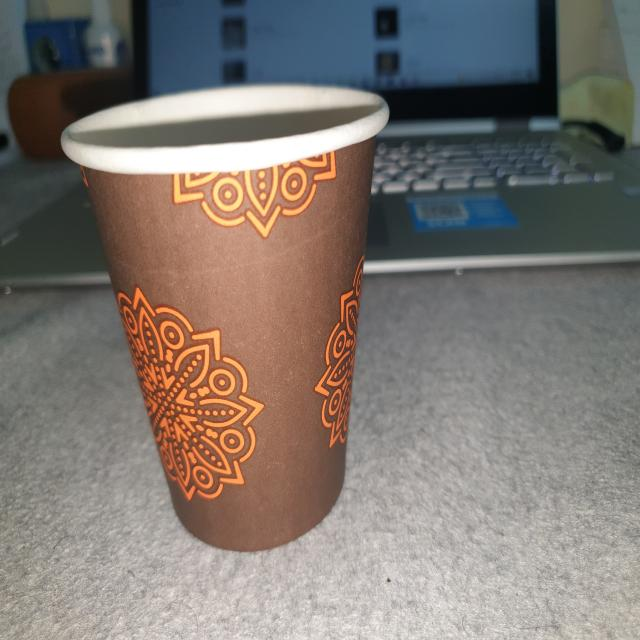cups: (59, 70, 394, 569)
